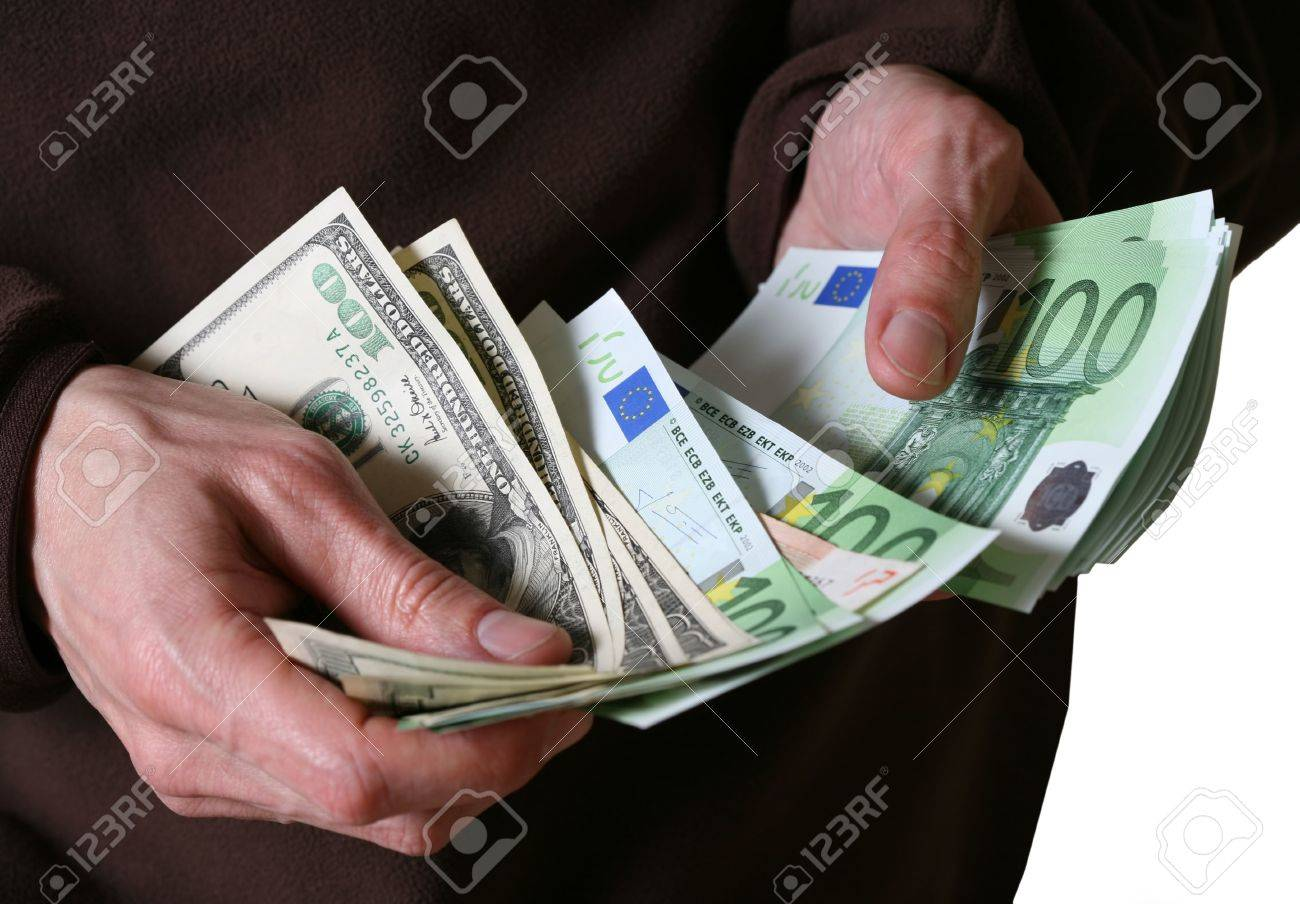billete: (90, 181, 1006, 732), (676, 183, 1247, 622)
